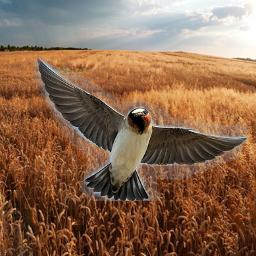Swallow: (34, 55, 248, 201)
